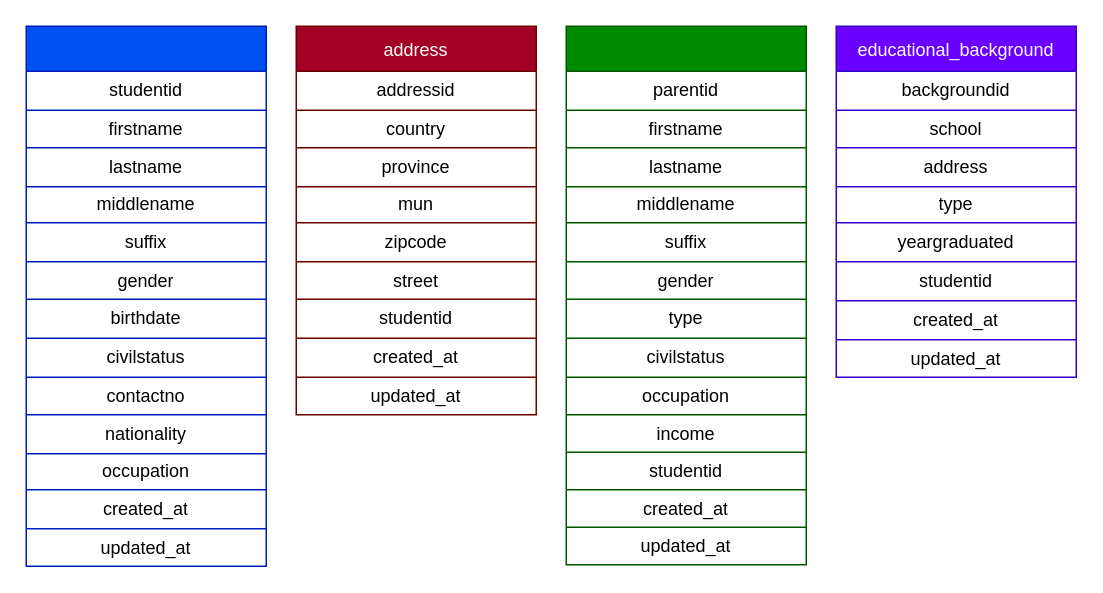
Image size: 1103x593. Some labels were removed from this diagram. Each missing label, with the box of its shape:
parents: (565, 25, 806, 565)
students: (25, 25, 266, 566)
